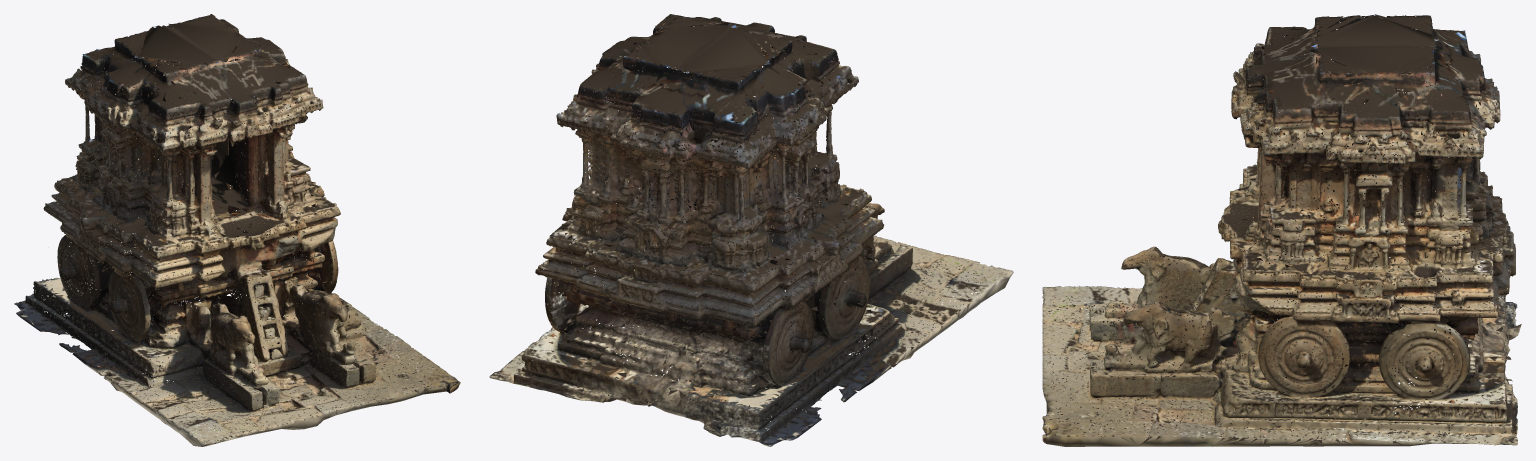
File: hampi-scan.glb
3 renders of one model, left to right at view 1: azimuth 30°, elevation 25°; view 2: azimuth 150°, elevation 25°; view 3: azimuth 270°, elevation 25°, orthographic. The views are drawn at different scales.
Parts seen in each view (by area): view 1: hampi; view 2: hampi; view 3: hampi.
Part boxes in pixels (x1,y1,x2,y2): hampi: (14, 14, 460, 446); hampi: (489, 14, 1013, 446); hampi: (1042, 14, 1521, 446).
Size of the model in its own units: 8.11 by 8.37 by 11.
Materials: 1 (1 with a texture image).
